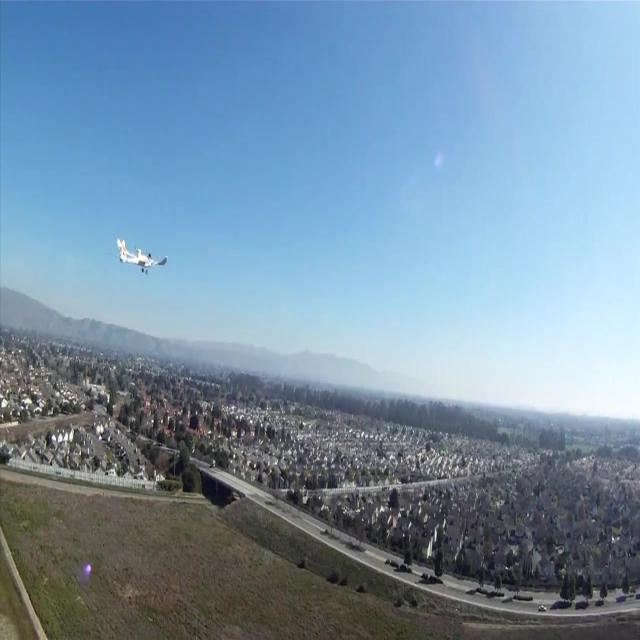iha: (116, 237, 167, 276)
